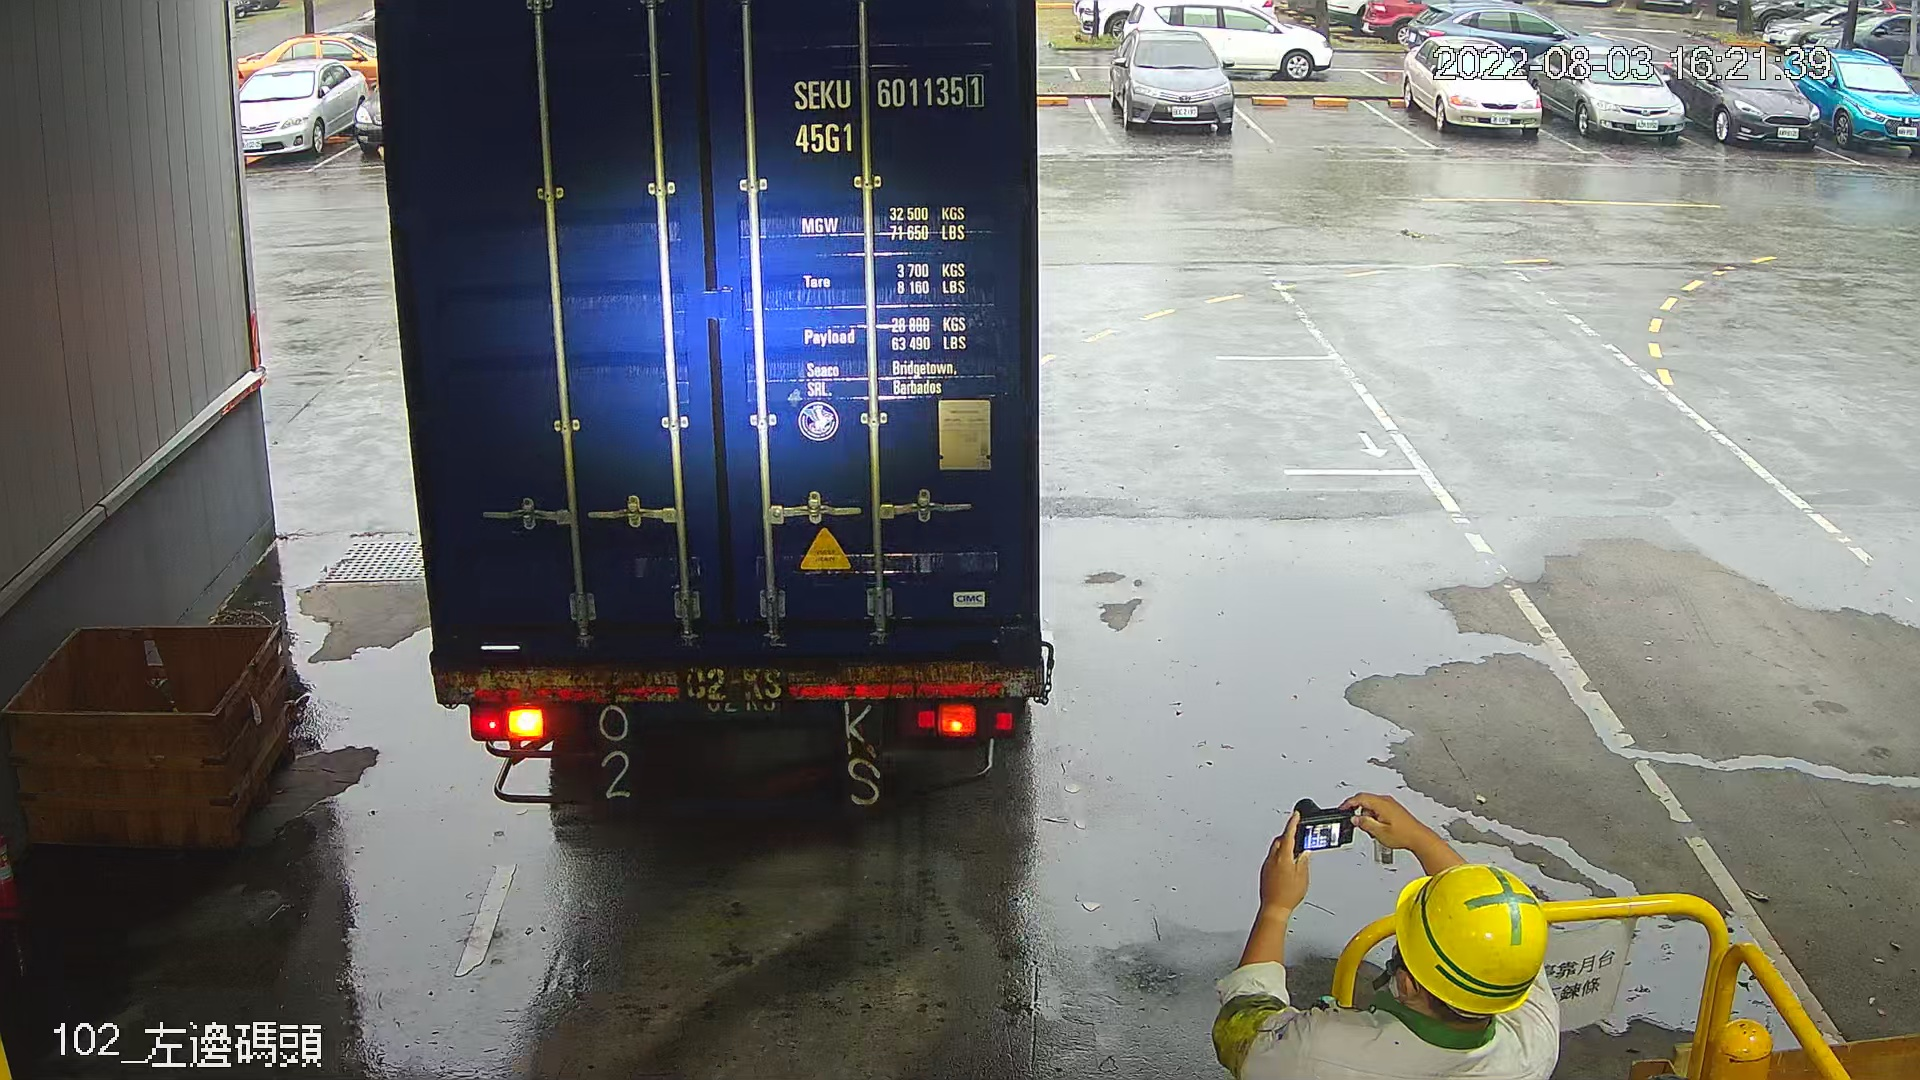container: (781, 61, 996, 170)
